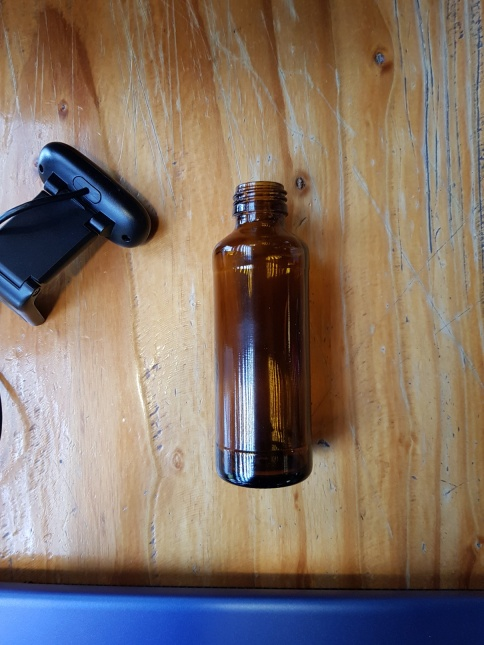Glass: (210, 176, 317, 489)
